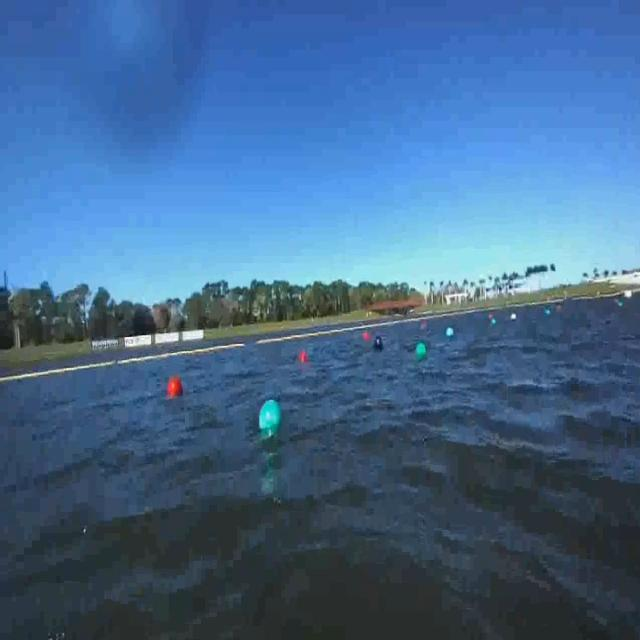black-buoy: (374, 338, 384, 353)
green-buoy: (261, 399, 283, 433), (417, 342, 428, 361)
red-buoy: (168, 376, 184, 400), (298, 351, 306, 364), (362, 332, 370, 342)
